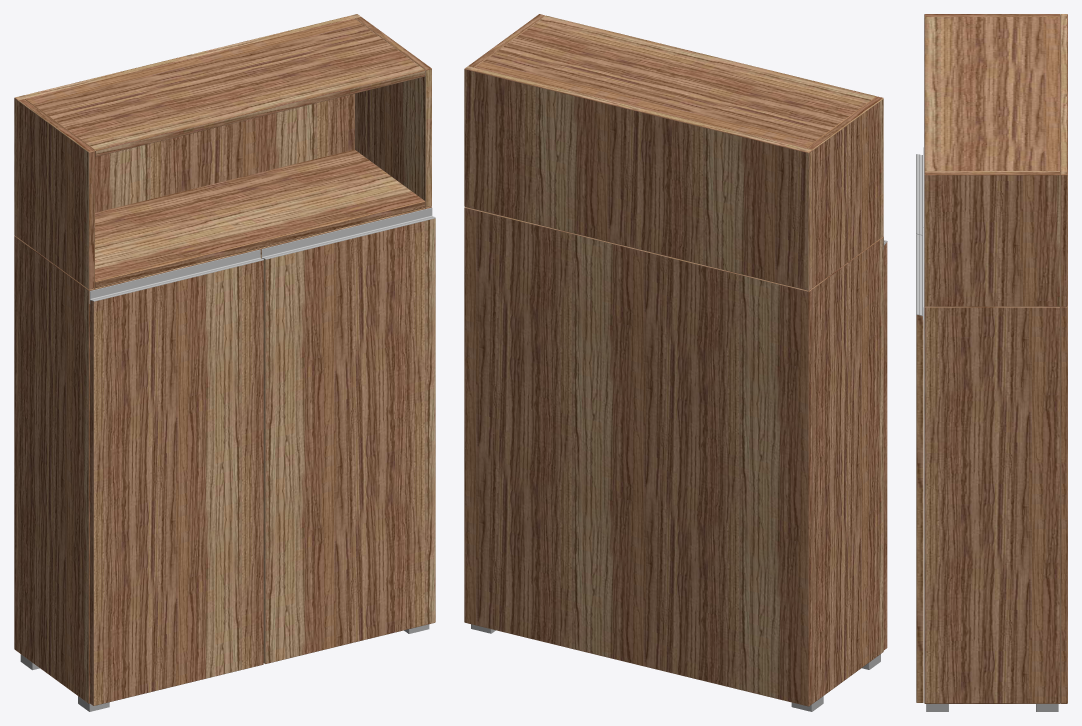
File: cabinet_hinged_door_3OH_attach_1OH_100x40_FINAL.fbx
3 renders of one model, left to right at view 1: azimuth 30°, elevation 25°; view 2: azimuth 150°, elevation 25°; view 3: azimuth 270°, elevation 25°, orthographic. The views are drawn at different scales.
Visible parts, largest first — view 1: body_mesh, front1_mesh, front2_mesh, handle1_mesh, handle2_mesh; view 2: body_mesh, front1_mesh; view 3: body_mesh, front2_mesh, handle2_mesh, handle1_mesh, plastik_mesh.
Boxes of the visible parts, box(x1,y1,x2,y2) form: body_mesh: box(14, 14, 431, 703); front1_mesh: box(90, 260, 263, 705); front2_mesh: box(263, 218, 435, 663); handle1_mesh: box(89, 249, 263, 303); handle2_mesh: box(261, 207, 435, 259); body_mesh: box(464, 14, 883, 706); front1_mesh: box(883, 242, 887, 650); body_mesh: box(924, 14, 1067, 703); front2_mesh: box(916, 315, 923, 702); handle2_mesh: box(916, 227, 923, 319); handle1_mesh: box(916, 147, 923, 235); plastik_mesh: box(926, 704, 1058, 711).
Size of the model in its own units: 100 by 156 by 39.88.
